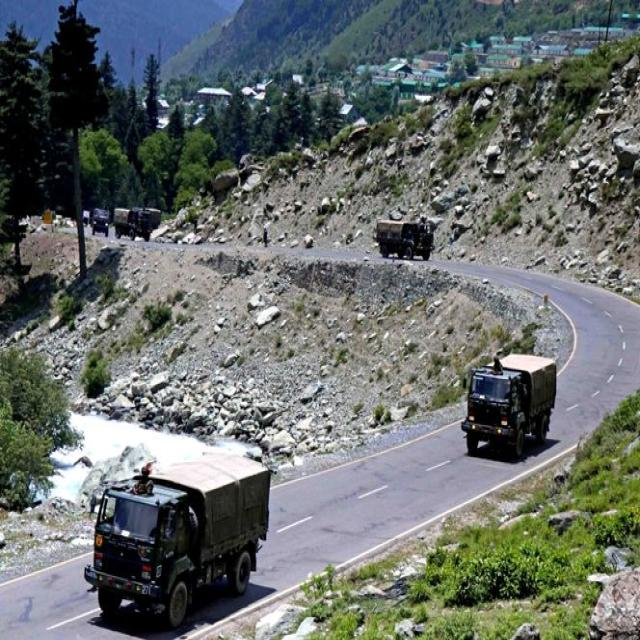truck: (84, 455, 270, 627), (461, 354, 556, 456)
